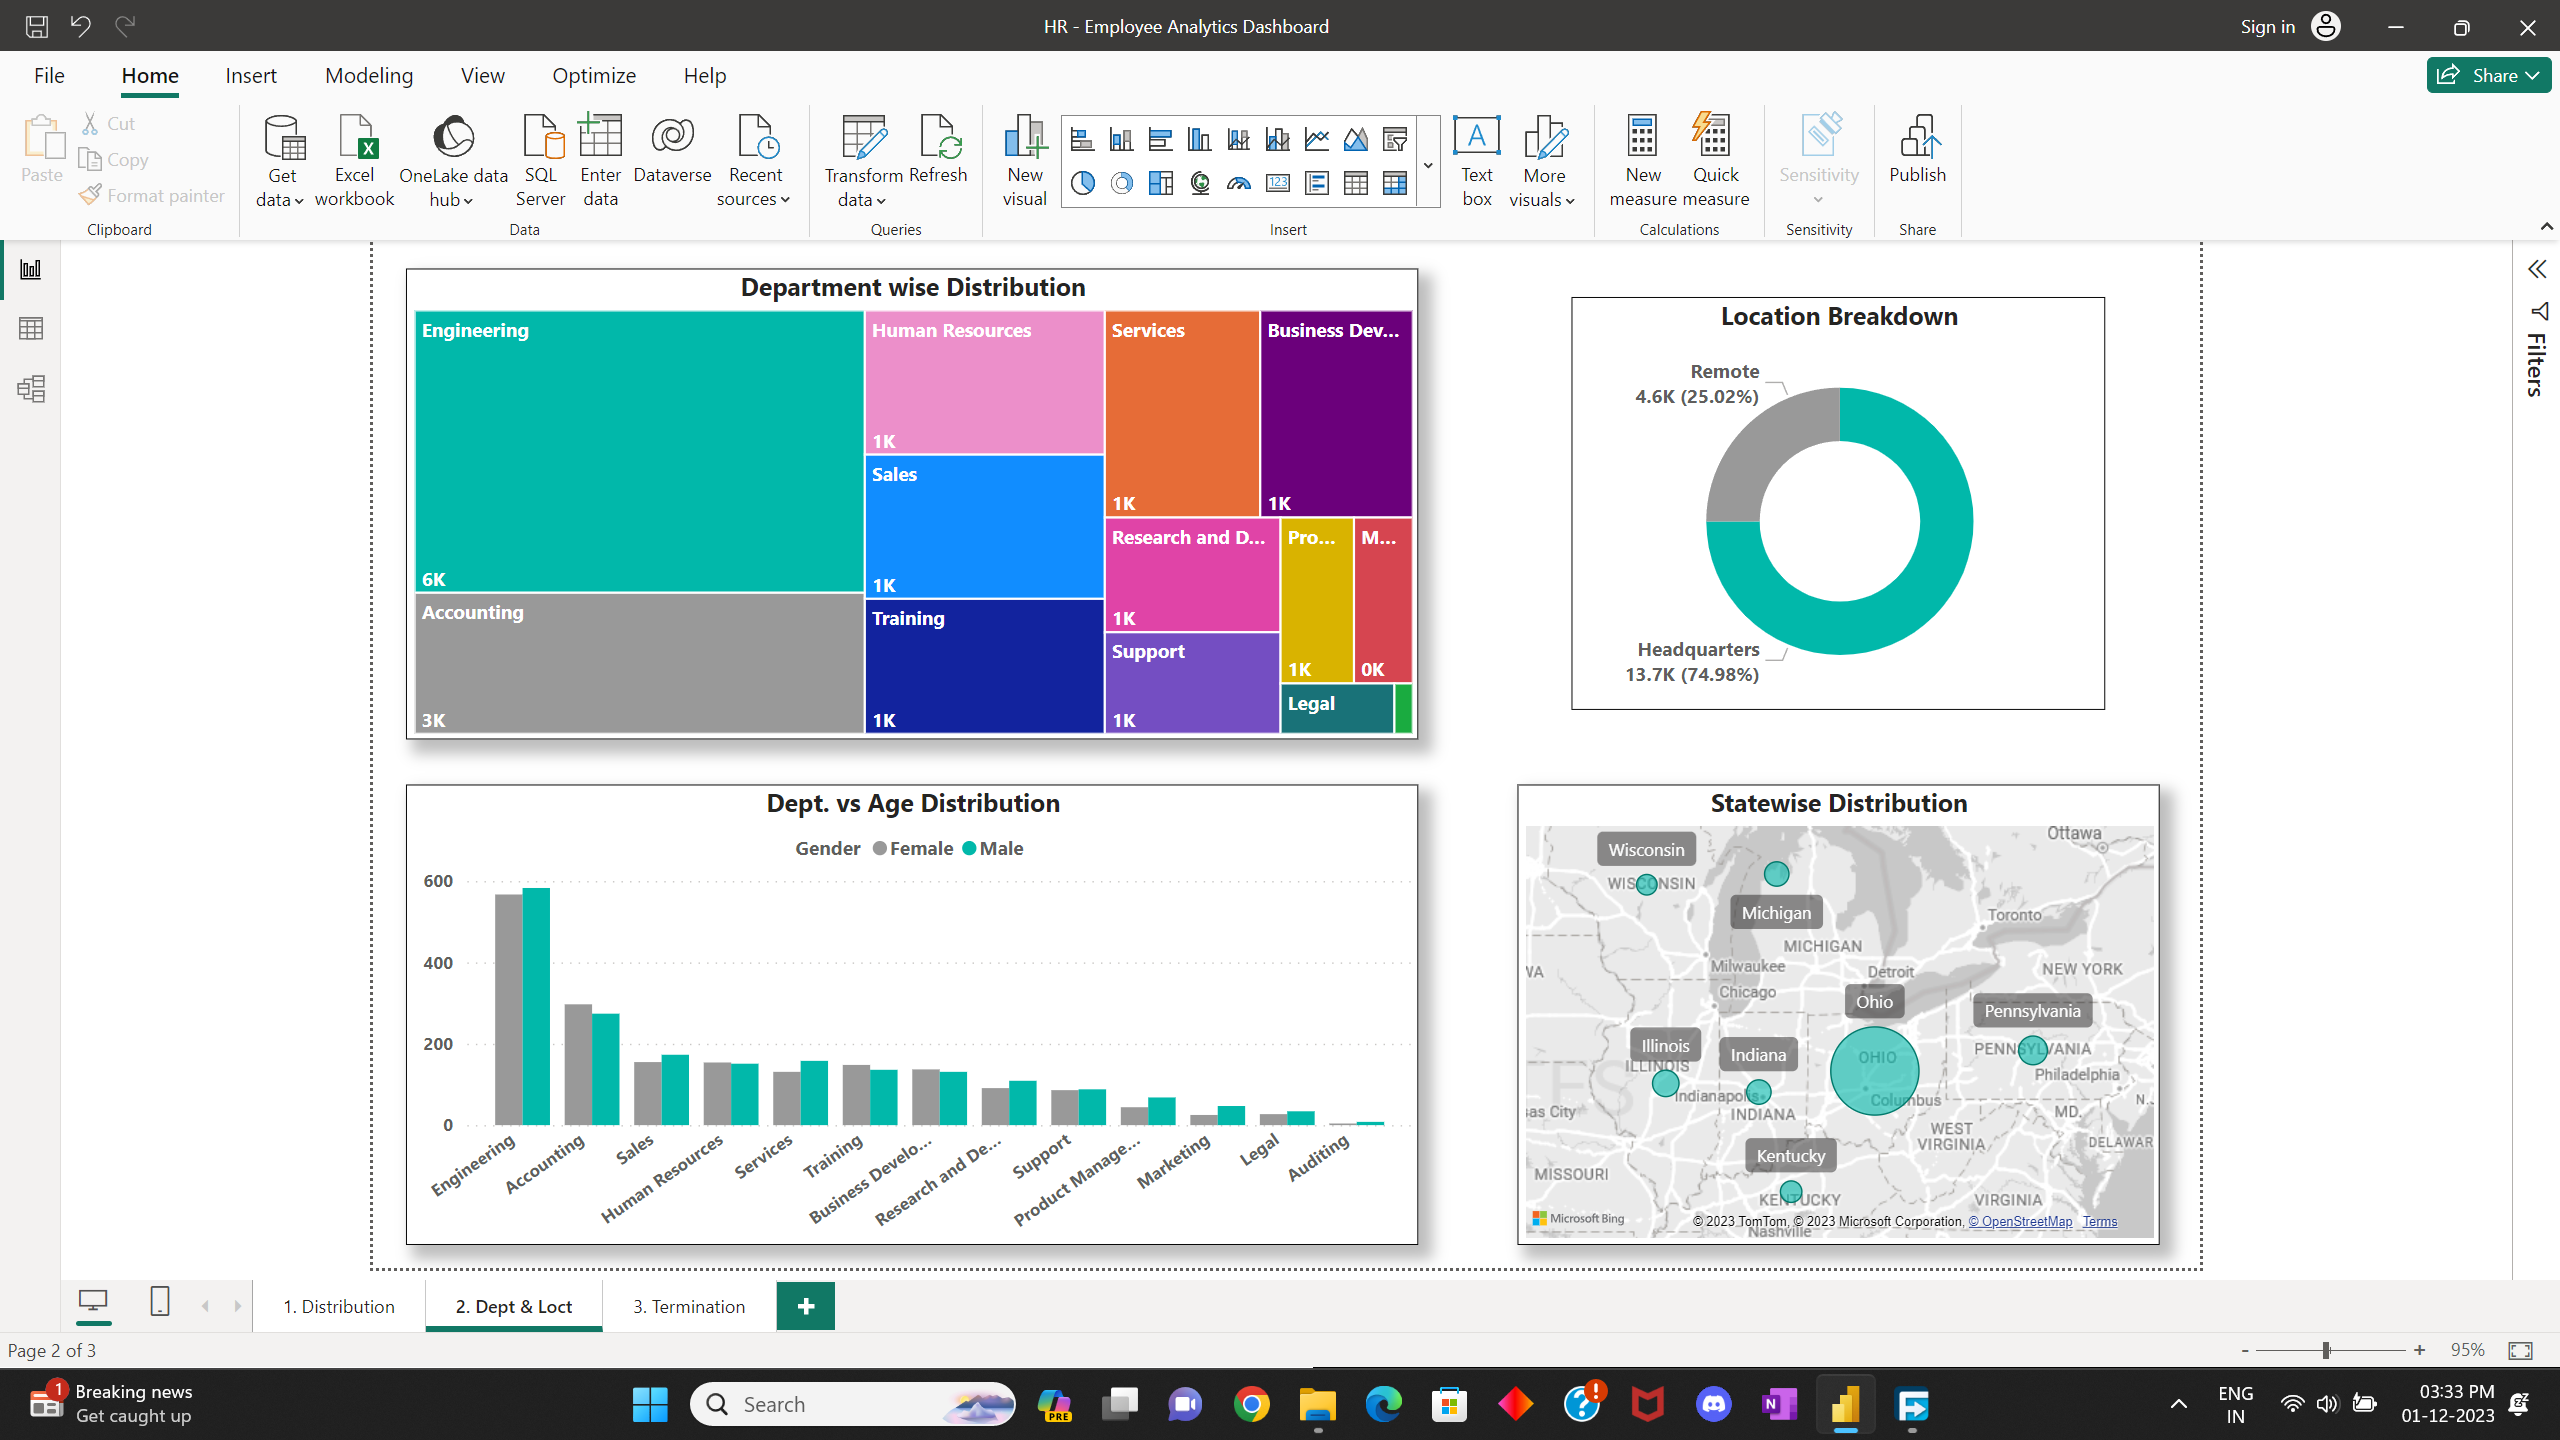

What the dashboard file says about the page in this screenshot:
{"tool":"powerbi","page":{"name":"2. Dept & Loct","canvas":[1280,720],"ordinal":1},"visuals":[{"type":"clusteredColumnChart","title":"Dept. vs Age Distribution","fields":{"Category":["department.department"],"Y":["department.count"],"Series":["department.gender"]},"box":[23.1,381.5,709.5,322.7],"z":0},{"type":"treemap","title":"Department wise Distribution","fields":{"Group":["department_jobtitle.department"],"Values":["department_jobtitle.count"]},"box":[23.1,20,709.5,330],"z":1000},{"type":"map","title":"Statewise Distribution","fields":{"Category":["location.location_state"],"Size":["location.count"]},"box":[802,381.5,449.9,322.7],"z":2000},{"type":"donutChart","title":"Location Breakdown","fields":{"Category":["hq_remote.location"],"Y":["hq_remote.count"]},"box":[839.8,39.9,374.2,289.1],"z":3000}]}

Visuals, with their boxes on the page's 1280x720 design canvas (x1, y1, x2, y2). These are canvas units, not pixel positions in the 2560x1440 screenshot, which may show the page scaled, cropped or inside an application window:
"Dept. vs Age Distribution" clusteredColumnChart: crop(23, 382, 733, 704)
"Department wise Distribution" treemap: crop(23, 20, 733, 350)
"Statewise Distribution" map: crop(802, 382, 1252, 704)
"Location Breakdown" donutChart: crop(840, 40, 1214, 329)
